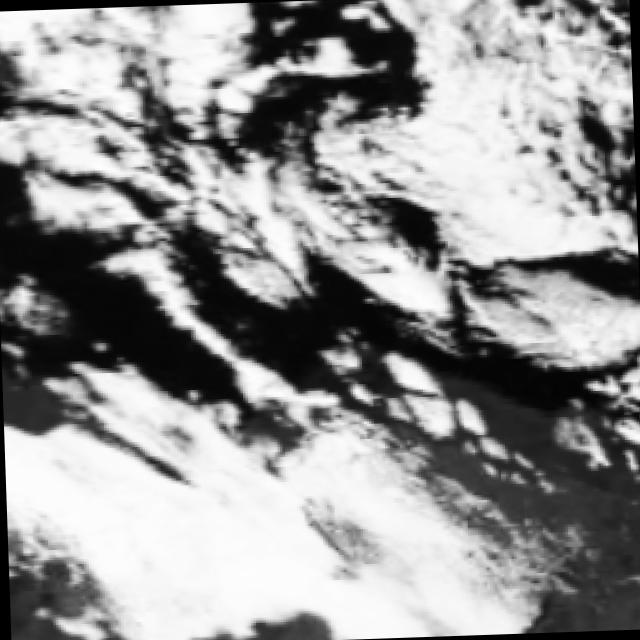CB: (96, 481, 310, 622)
